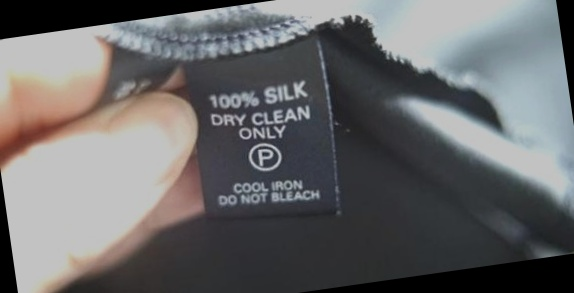dry_clean_any_solvent_except_trichloroethylene: (247, 139, 285, 173)
